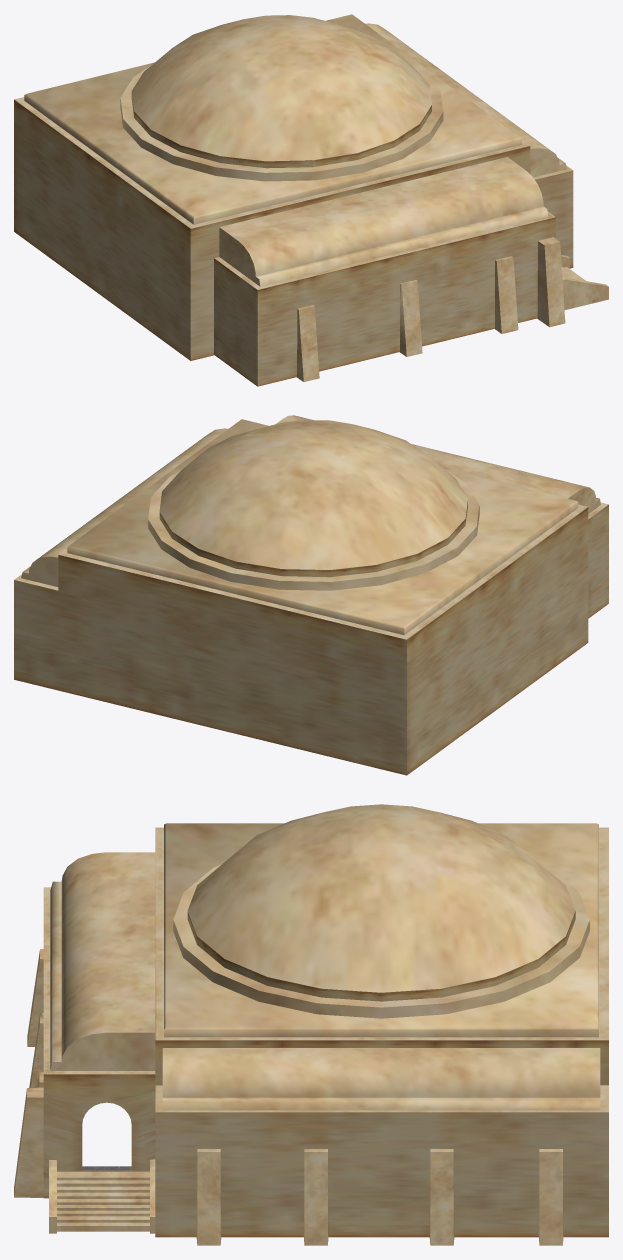
Rendered from thm_tato_house_m_s01_fp1_r0_mesh_l2.fbx.
3 views of the same model, one above another, from view 1: azimuth 30°, elevation 25°; view 2: azimuth 150°, elevation 25°; view 3: azimuth 270°, elevation 25° (orthographic). The views are drawn at different scales.
Parts seen in each view (by area): view 1: mesh_node; view 2: mesh_node; view 3: mesh_node.
Boxes of the visible parts, bbox=[...] form: mesh_node: bbox=[14, 14, 608, 386]; mesh_node: bbox=[14, 415, 608, 775]; mesh_node: bbox=[14, 804, 608, 1245].
Size of the model in its own units: 23.75 by 12.49 by 24.07.
